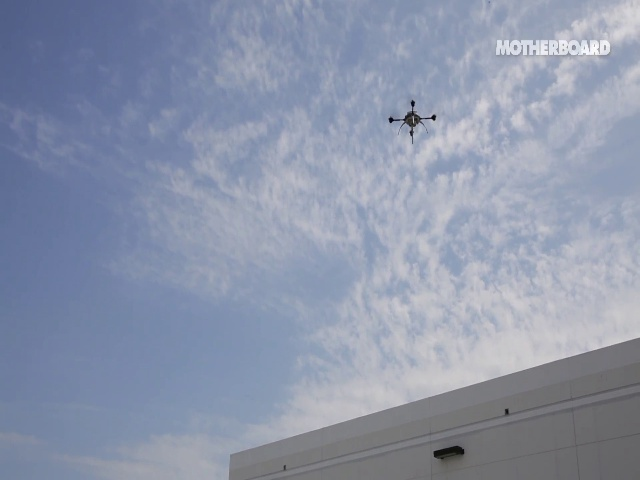drone: (381, 92, 442, 149)
